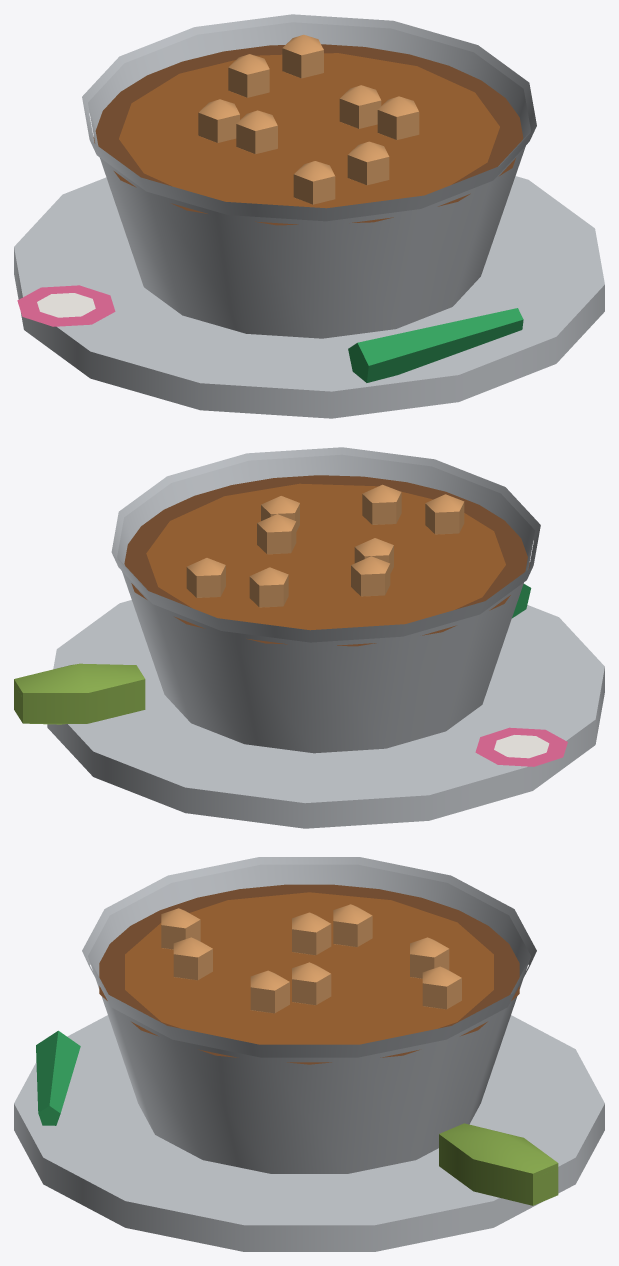
File: pass_chole.glb
The picture shows the model from 3 angles, top to bottom: view 1: azimuth 30°, elevation 25°; view 2: azimuth 150°, elevation 25°; view 3: azimuth 270°, elevation 25°; orthographic projection. The views are drawn at different scales.
Parts seen in each view (by area): view 1: pass_chole; view 2: pass_chole; view 3: pass_chole.
Boxes of the visible parts, left/top/right/bottom form: pass_chole: left=14, top=14, right=604, bottom=418; pass_chole: left=14, top=447, right=604, bottom=828; pass_chole: left=14, top=857, right=604, bottom=1251.
Size of the model in its own units: 0.2015 by 0.072 by 0.2.
Materials: 1 (1 with a texture image).
